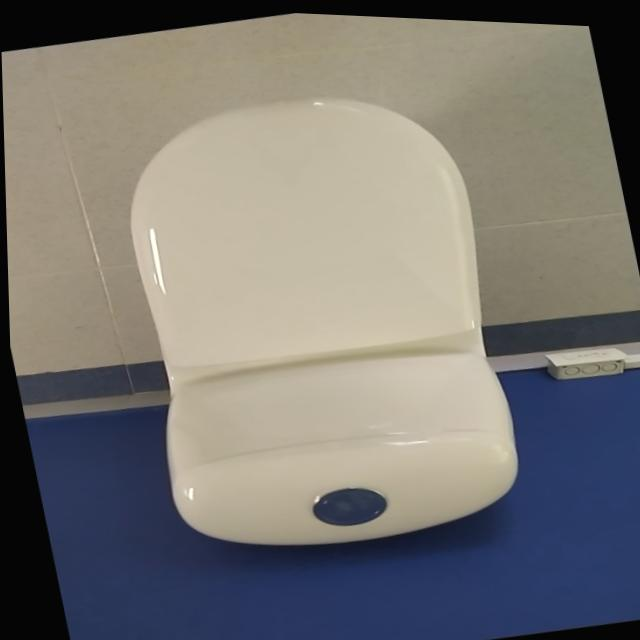toilet: (92, 61, 534, 575)
